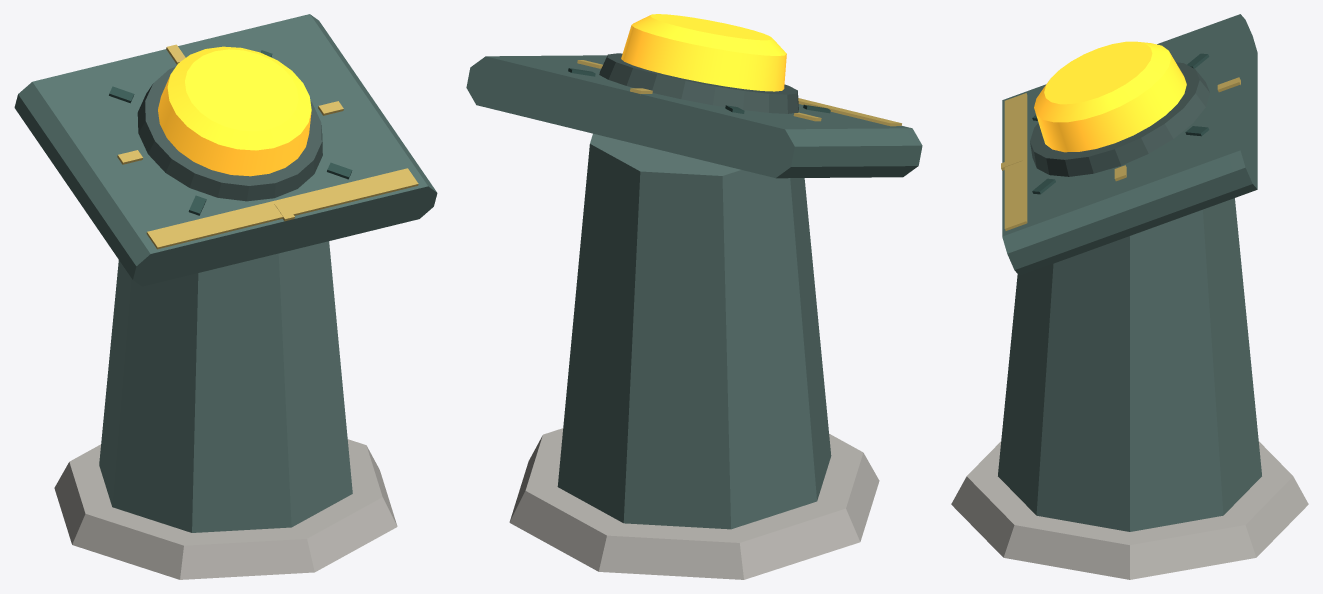
File: console.glb
3 views of the same model, side by side, from view 1: azimuth 30°, elevation 25°; view 2: azimuth 150°, elevation 25°; view 3: azimuth 270°, elevation 25° (orthographic). The views are drawn at different scales.
Parts seen in each view (by area): view 1: body, button; view 2: body, button; view 3: body, button.
Boxes of the visible parts, bbox=[...] form: body: bbox=[14, 14, 437, 579]; button: bbox=[158, 46, 311, 176]; body: bbox=[466, 53, 922, 579]; button: bbox=[621, 14, 786, 91]; body: bbox=[951, 14, 1308, 579]; button: bbox=[1034, 41, 1186, 152].
Size of the model in its own units: 0.92 by 1.28 by 0.92.
